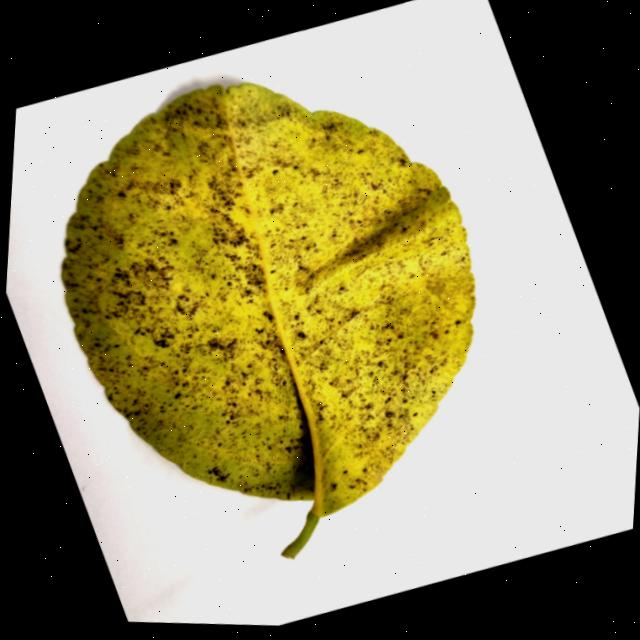melanose: (62, 83, 474, 557)
